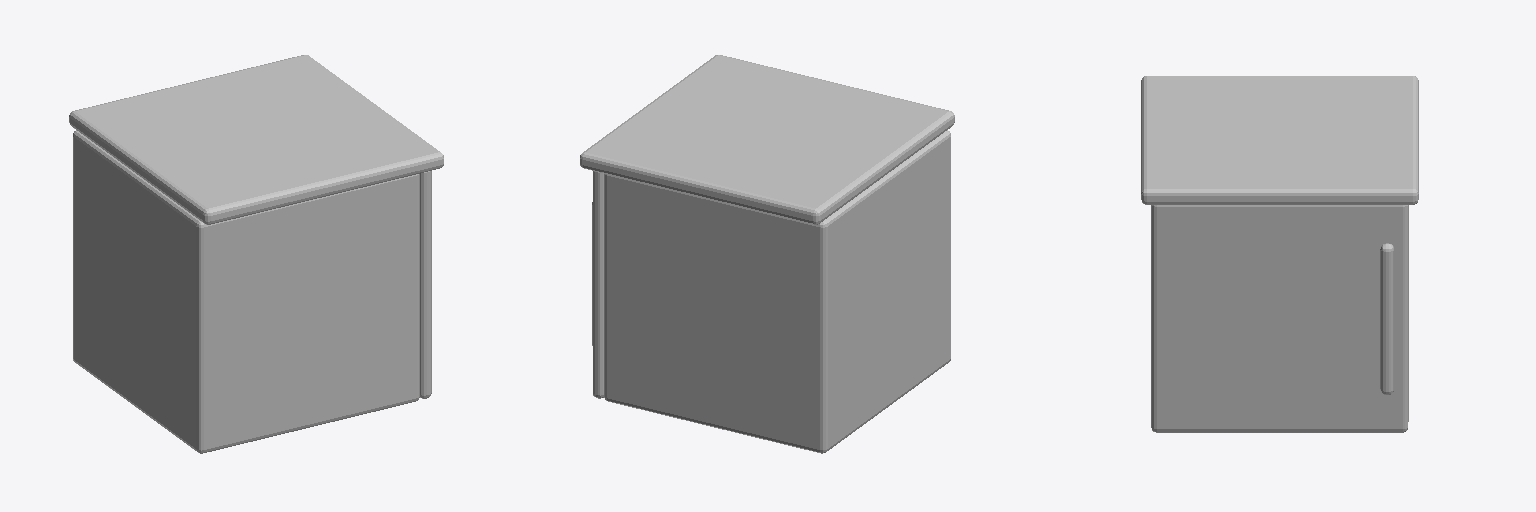
Rendered from balcao.obj.
3 renders of one model, left to right at view 1: azimuth 30°, elevation 25°; view 2: azimuth 150°, elevation 25°; view 3: azimuth 270°, elevation 25°, orthographic.
Visible parts, largest first — view 1: Cube.001_Cube.007; view 2: Cube.001_Cube.007; view 3: Cube.001_Cube.007.
Boxes of the visible parts, x1,y1,x2,y2 form: Cube.001_Cube.007: [69, 55, 443, 453]; Cube.001_Cube.007: [580, 55, 954, 453]; Cube.001_Cube.007: [1141, 76, 1418, 432].
Size of the model in its own units: 0.9782 by 0.9571 by 0.9713.